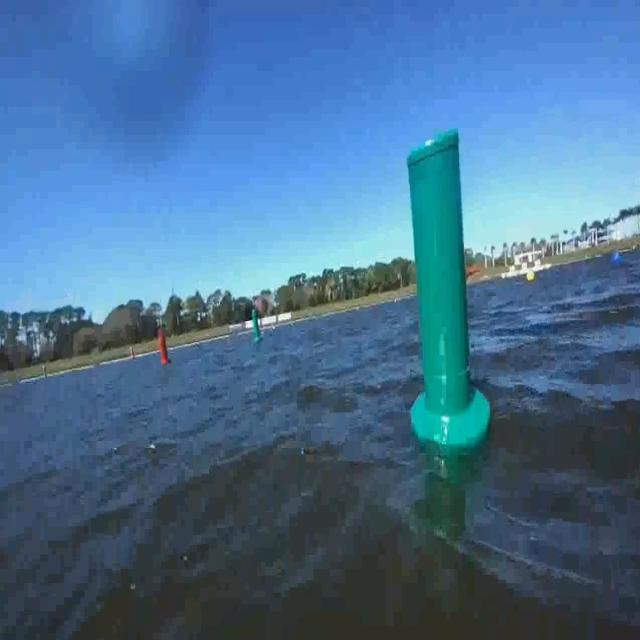green-column-buoy: (402, 122, 491, 456), (252, 297, 266, 344)
red-column-buoy: (151, 332, 169, 366)
